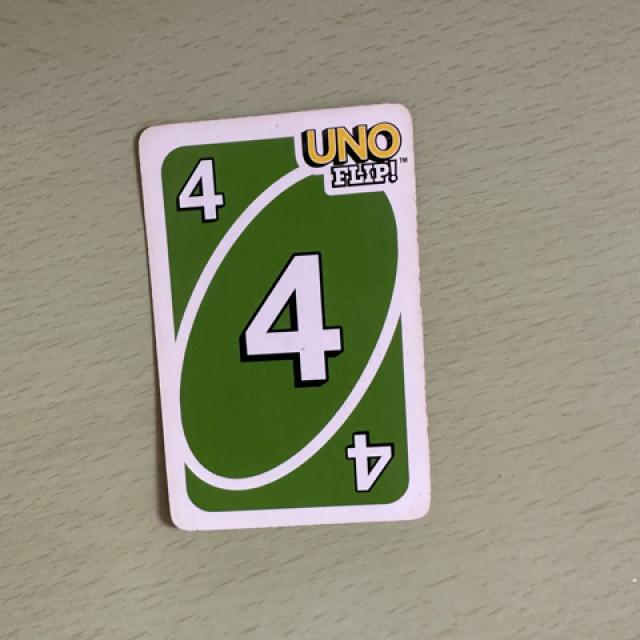lgreen-4: (152, 137, 251, 243)
